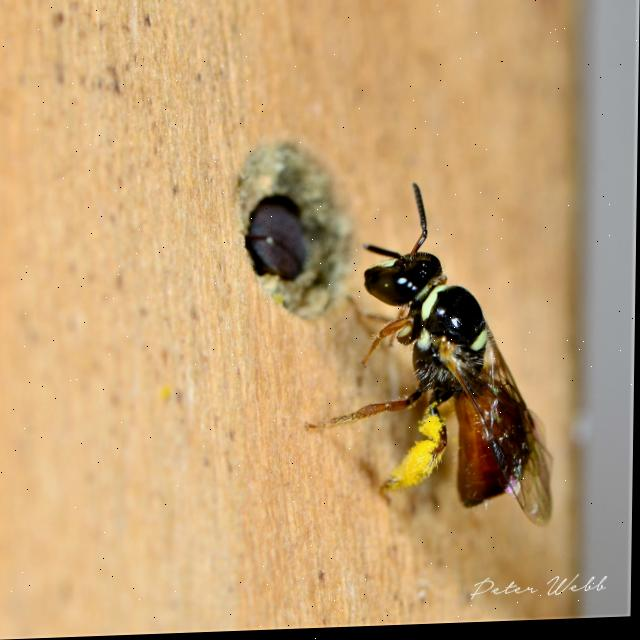Allodapula: (325, 155, 571, 560)
